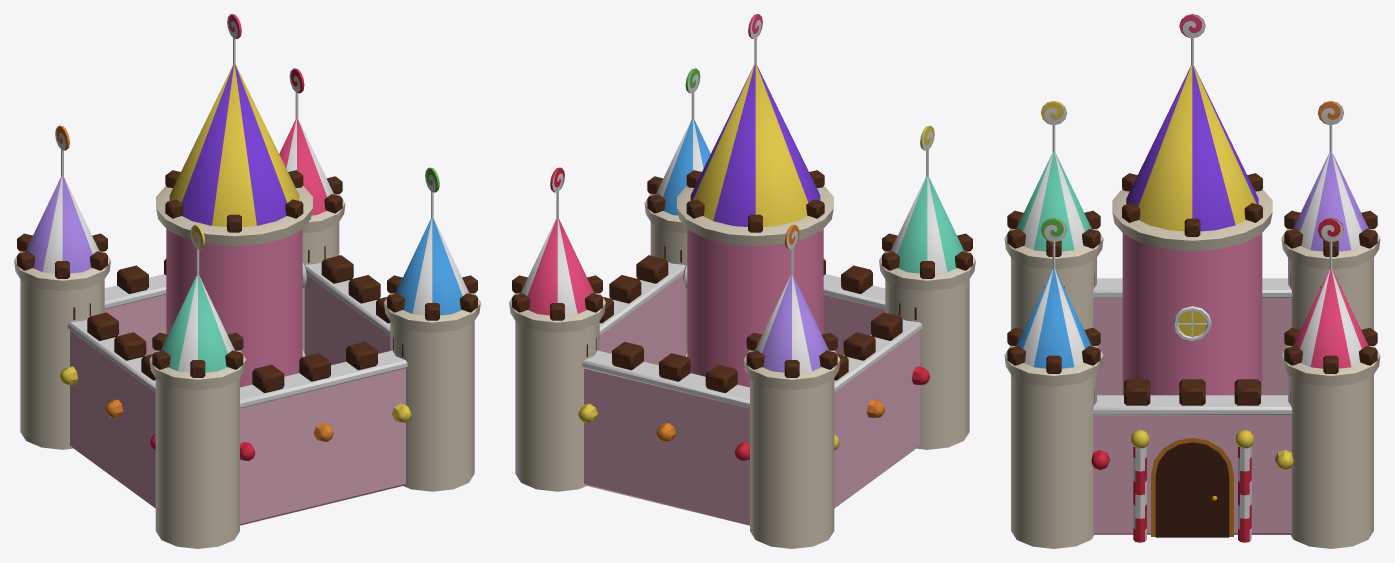
File: candy_castle.glb
3 views of the same model, side by side, from view 1: azimuth 30°, elevation 25°; view 2: azimuth 150°, elevation 25°; view 3: azimuth 270°, elevation 25° (orthographic). The views are drawn at different scales.
Visible parts, largest first — view 1: candy_castle; view 2: candy_castle; view 3: candy_castle.
Boxes of the visible parts, x1,y1,x2,y2 form: candy_castle: (14,14,480,548); candy_castle: (509,14,975,548); candy_castle: (1004,14,1380,548).
Size of the model in its own units: 12.3 by 16.19 by 12.22.
